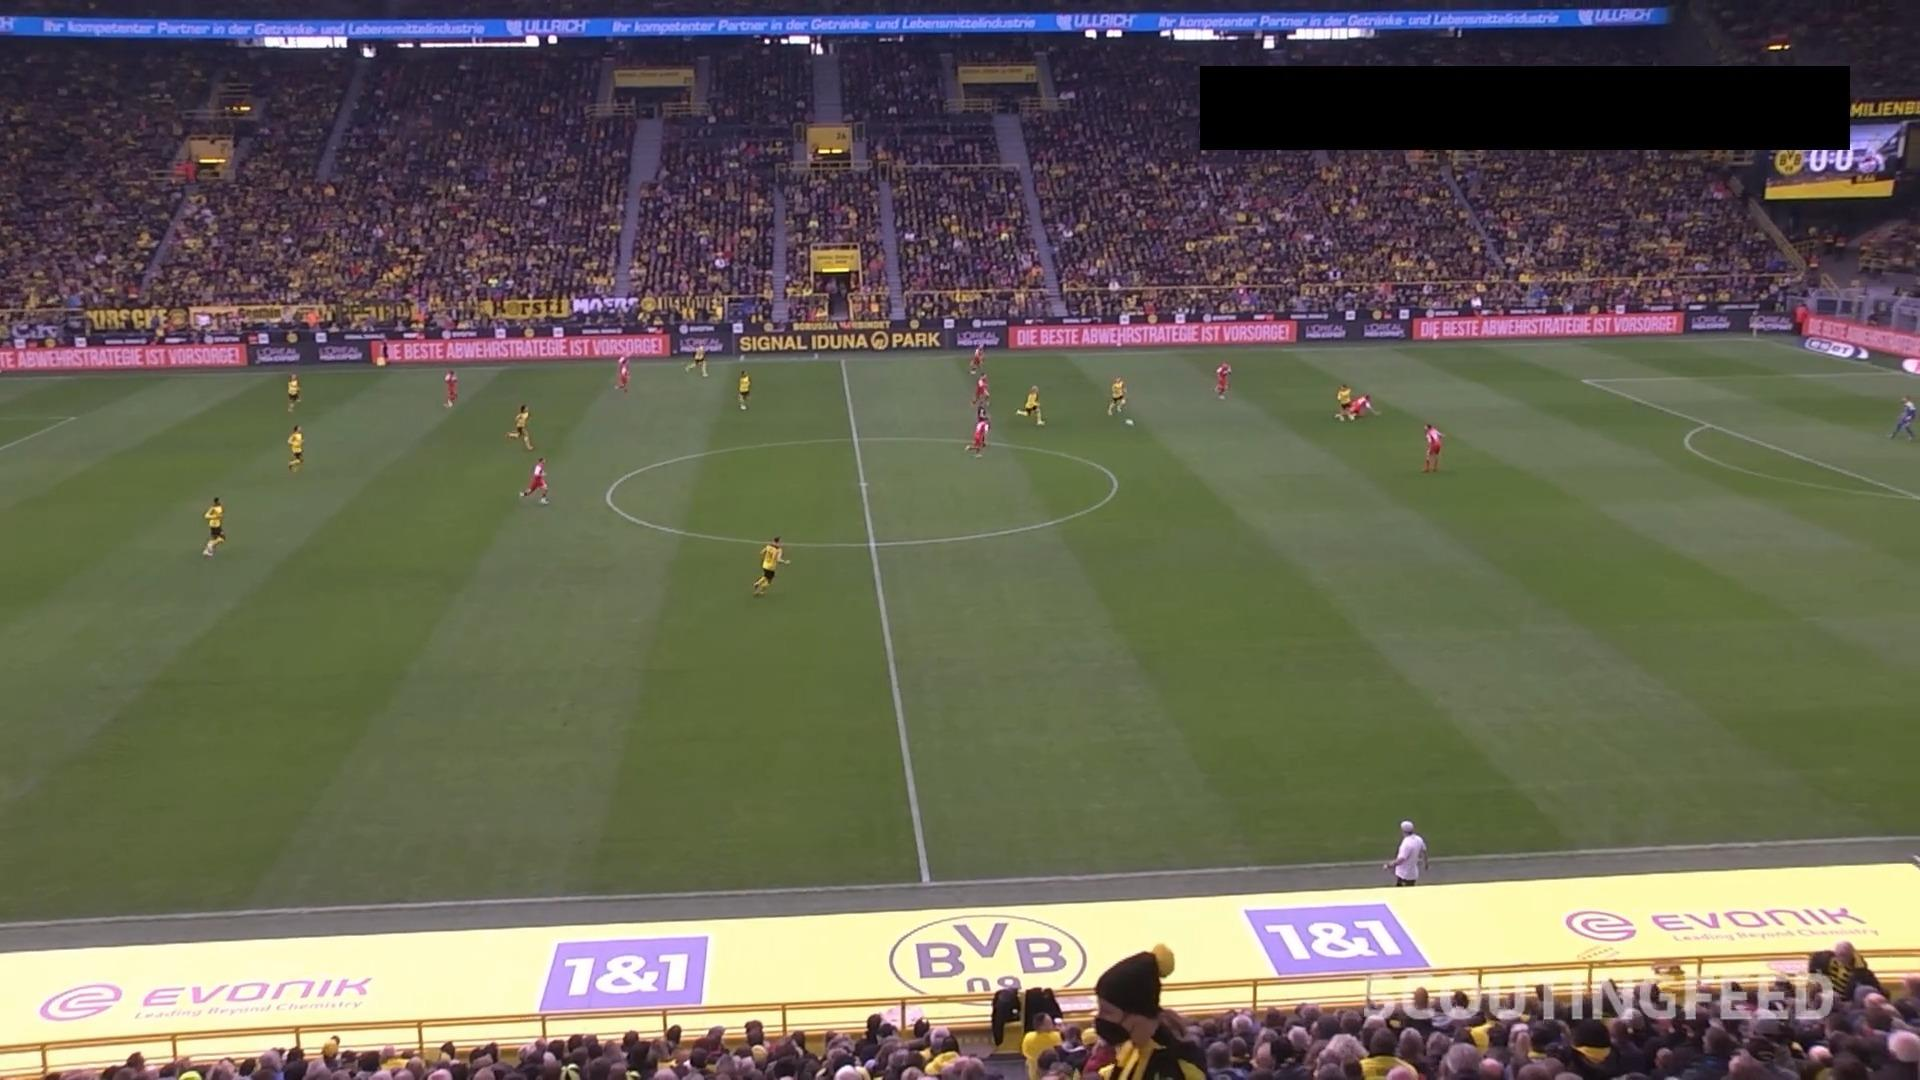ball: (1124, 418, 1134, 427)
coach: (1382, 818, 1428, 886)
fan: (1089, 942, 1182, 1077), (990, 974, 1021, 1045), (1021, 985, 1062, 1033)
player: (751, 535, 789, 595), (201, 495, 226, 556), (519, 455, 550, 504), (506, 402, 533, 451), (1888, 395, 1917, 440), (1015, 383, 1044, 426), (966, 407, 990, 455), (1421, 422, 1443, 472), (285, 423, 304, 470), (1106, 375, 1127, 417), (686, 341, 708, 377), (1348, 392, 1377, 419), (971, 371, 991, 410), (1333, 383, 1353, 421), (285, 371, 302, 412), (1214, 360, 1231, 399), (735, 369, 751, 410), (443, 368, 457, 408), (968, 343, 985, 374), (615, 354, 629, 391)
referee: (375, 339, 392, 367)
